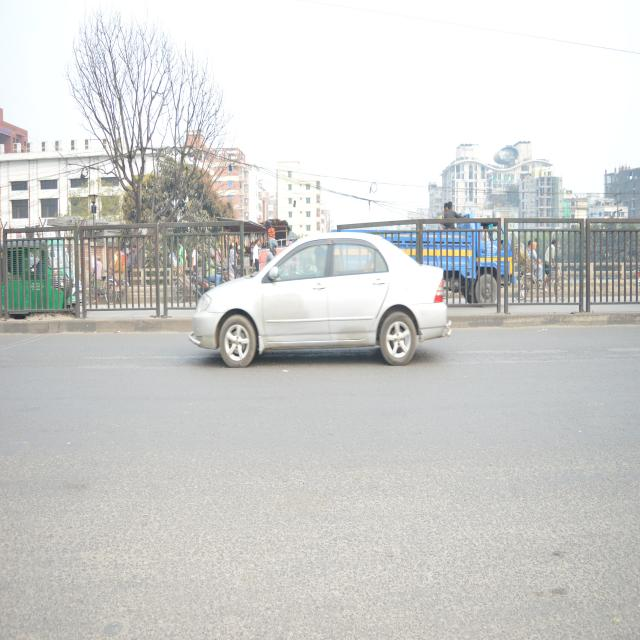car: (193, 229, 452, 380)
truck: (380, 212, 512, 316)
